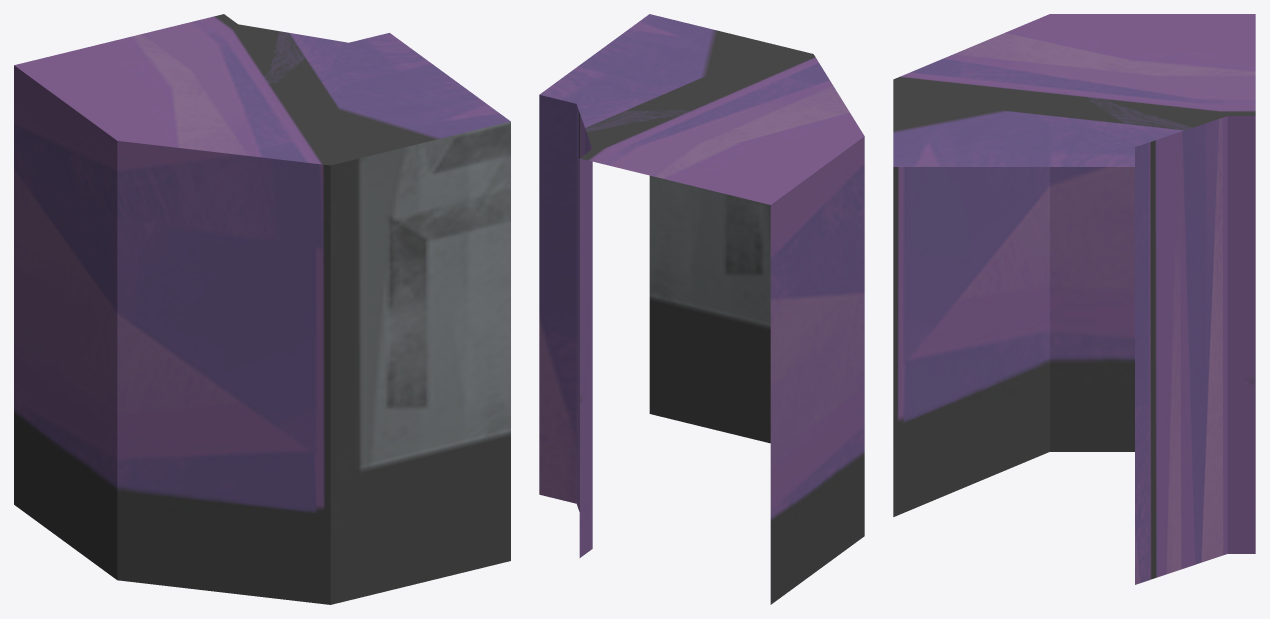
The model's file is wall_corner.fbx.
3 views of the same model, side by side, from view 1: azimuth 30°, elevation 25°; view 2: azimuth 150°, elevation 25°; view 3: azimuth 270°, elevation 25° (orthographic). The views are drawn at different scales.
Parts seen in each view (by area): view 1: wall_corner; view 2: wall_corner; view 3: wall_corner.
Part boxes in pixels (box(x1,y1,x2,y2)): wall_corner: box(14, 14, 510, 604); wall_corner: box(539, 14, 864, 604); wall_corner: box(893, 14, 1255, 584).
Bounding box in the file's own units: 0.015 × 0.02 × 0.015.
